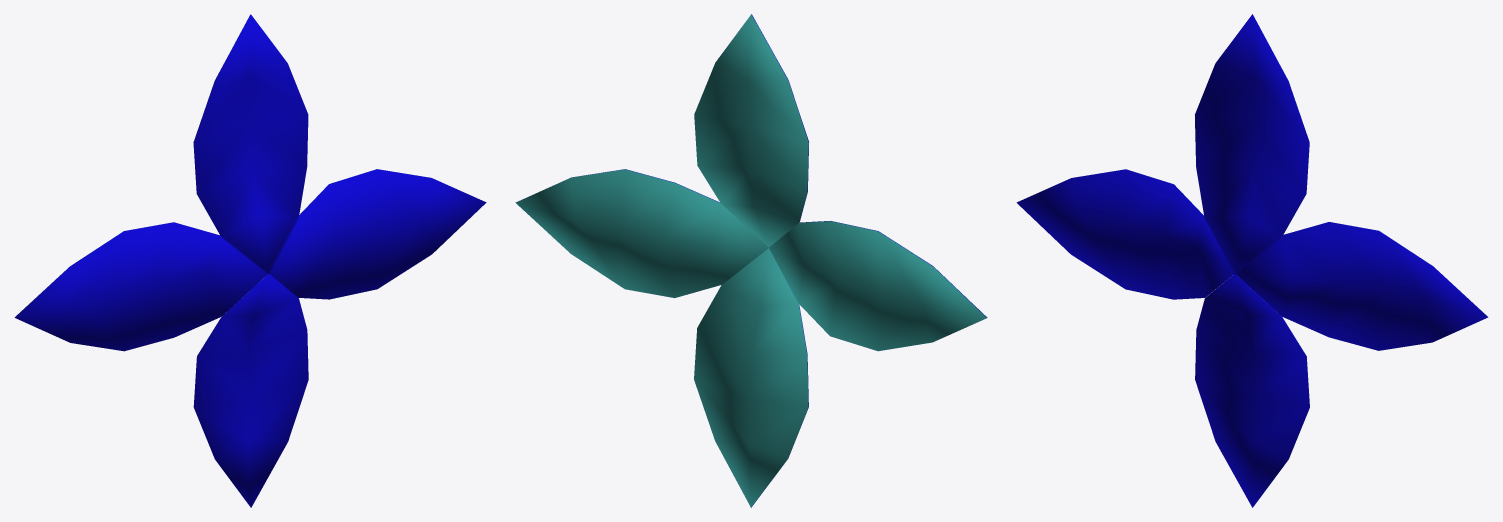
File: FlowerOpen2.fbx
3 renders of one model, left to right at view 1: azimuth 30°, elevation 25°; view 2: azimuth 150°, elevation 25°; view 3: azimuth 330°, elevation 25°, orthographic.
Visible parts, largest first — view 1: Plane.006, Plane.007, Plane.005, Plane.008; view 2: Plane.008, Plane.005, Plane.007, Plane.006; view 3: Plane.008, Plane.007, Plane.005, Plane.006.
Part boxes in pixels (x1,y1,x2,y2): Plane.006: [14, 222, 267, 351]; Plane.007: [193, 14, 308, 274]; Plane.005: [193, 274, 308, 507]; Plane.008: [268, 169, 486, 299]; Plane.008: [515, 169, 768, 297]; Plane.005: [694, 248, 808, 507]; Plane.007: [694, 14, 809, 247]; Plane.006: [769, 221, 987, 351]; Plane.008: [1234, 222, 1488, 350]; Plane.007: [1195, 14, 1309, 273]; Plane.005: [1195, 274, 1309, 507]; Plane.006: [1016, 169, 1234, 299].
Bounding box in the file's own units: 672 × 672 × 51.13.
1 material, 1 textured.
